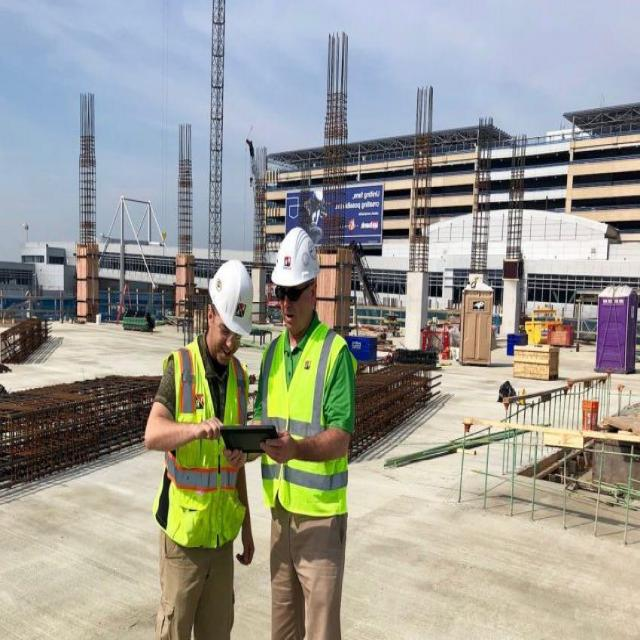Reflective-Jacket: (158, 342, 250, 550), (260, 323, 352, 524)
Safety-Helmet: (206, 256, 256, 340), (270, 221, 320, 289)
